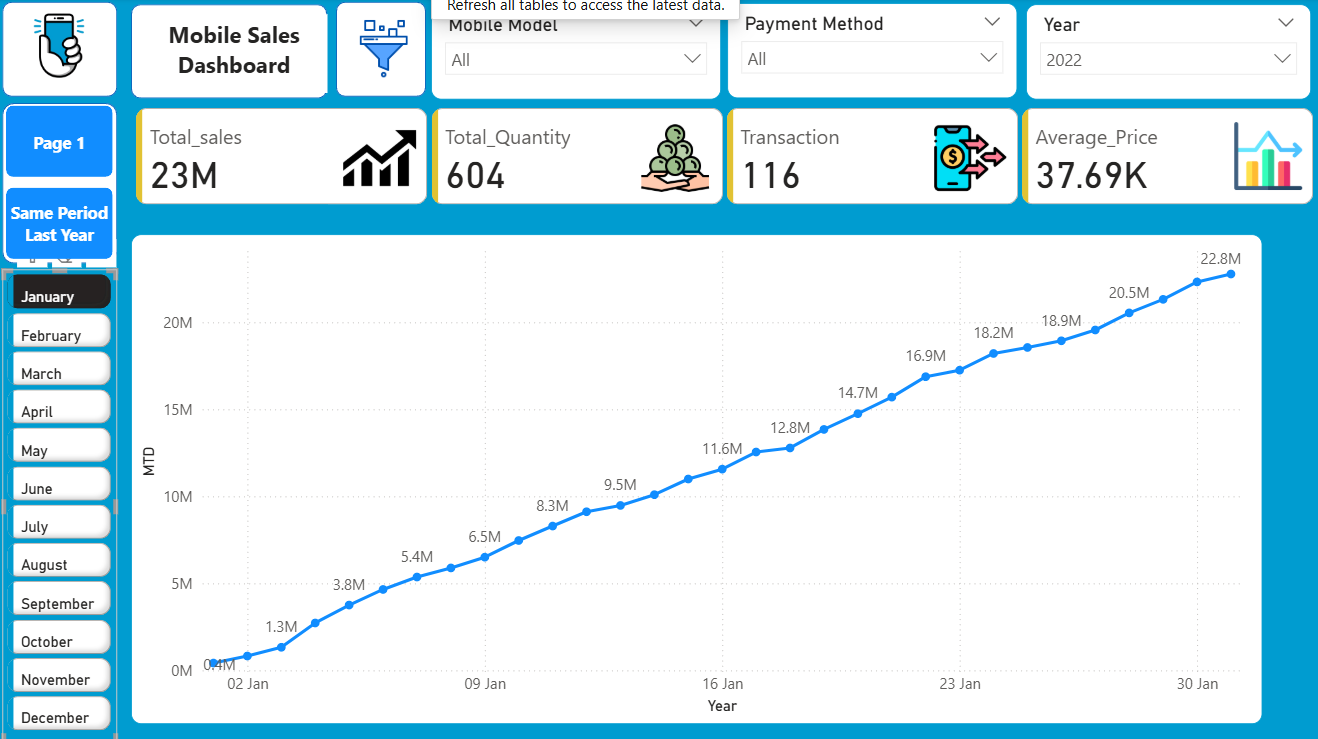

The dashboard page shown, as its layout file describes it:
{"tool":"powerbi","page":{"name":"MTD Report","canvas":[1280,720],"ordinal":1},"visuals":[{"type":"shape","box":[6,4,111,91.7],"z":0},{"type":"image","box":[4.8,0,112.2,91.7],"z":1000},{"type":"shape","box":[6,101,111,155],"z":2000},{"type":"cardVisual","fields":{"Data":["Sales_Data.Total_sales","Sales_Data.Total_Quantity","Sales_Data.Transaction","Sales_Data.Average_Price"]},"box":[130.3,101.3,1149.7,103.8],"z":3000},{"type":"slicer","fields":{"Values":["Sales_Data.Mobile Model"]},"box":[419.8,6,279.9,91.7],"z":4000},{"type":"slicer","fields":{"Values":["Sales_Data.Payment Method"]},"box":[705.8,4.8,279.9,91.7],"z":5000},{"type":"shape","box":[328.2,3.6,86.9,91.7],"z":6000},{"type":"slicer","fields":{"Values":["Custom_Calendar.Date.Variation.Date Hierarchy.Year"]},"box":[994.1,6,275.1,91.7],"z":7000},{"type":"image","box":[328.2,15.7,91.7,66.4],"z":8000},{"type":"shape","box":[130.3,6,189.4,91],"z":9000},{"type":"textbox","box":[139.9,15.7,179.8,76],"z":10000},{"type":"lineChart","fields":{"Y":["Sales_Data.MTD"],"Category":["Custom_Calendar.Date.Variation.Date Hierarchy.Year","Custom_Calendar.Date.Variation.Date Hierarchy.Quarter","Custom_Calendar.Date.Variation.Date Hierarchy.Month","Custom_Calendar.Date.Variation.Date Hierarchy.Day"]},"box":[130.3,228,1091.8,472.9],"z":11000},{"type":"advancedSlicerVisual","fields":{"Values":["Custom_Calendar.Date.Variation.Date Hierarchy.Month"]},"box":[6,261.6,111,458.4],"z":12000},{"type":"pageNavigator","box":[9.7,103.8,103.8,148.4],"z":13000}]}

Visuals, with their boxes on the page's 1280x720 design canvas (x1, y1, x2, y2). These are canvas units, not pixel positions in the 1318x739 screenshot, which may show the page scaled, cropped or inside an application window:
shape: region(6, 4, 117, 96)
image: region(5, 0, 117, 92)
shape: region(6, 101, 117, 256)
cardVisual - Sales_Data.Total_sales x Sales_Data.Total_Quantity: region(130, 101, 1280, 205)
slicer - Sales_Data.Mobile Model: region(420, 6, 700, 98)
slicer - Sales_Data.Payment Method: region(706, 5, 986, 96)
shape: region(328, 4, 415, 95)
slicer - Custom_Calendar.Date.Variation.Date Hierarchy.Year: region(994, 6, 1269, 98)
image: region(328, 16, 420, 82)
shape: region(130, 6, 320, 97)
textbox: region(140, 16, 320, 92)
lineChart - Sales_Data.MTD x Custom_Calendar.Date.Variation.Date Hierarchy.Year: region(130, 228, 1222, 701)
advancedSlicerVisual - Custom_Calendar.Date.Variation.Date Hierarchy.Month: region(6, 262, 117, 720)
pageNavigator: region(10, 104, 114, 252)
